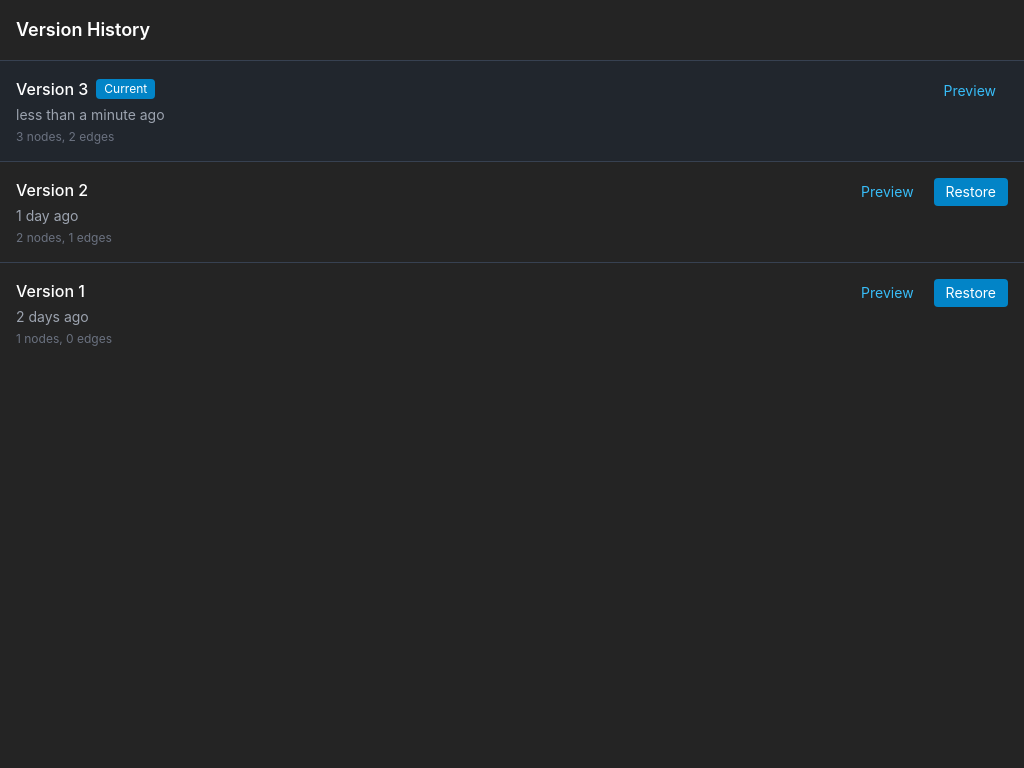
Test case: VersionHistory › preview modal › should open preview modal when Preview is clicked
Expected: the text "Version 2" is shown, x1=16 y1=178 x2=88 y2=202
Step 1. Click the 2nd button "Preview" → (887, 192), box x1=849 y1=178 x2=926 y2=206
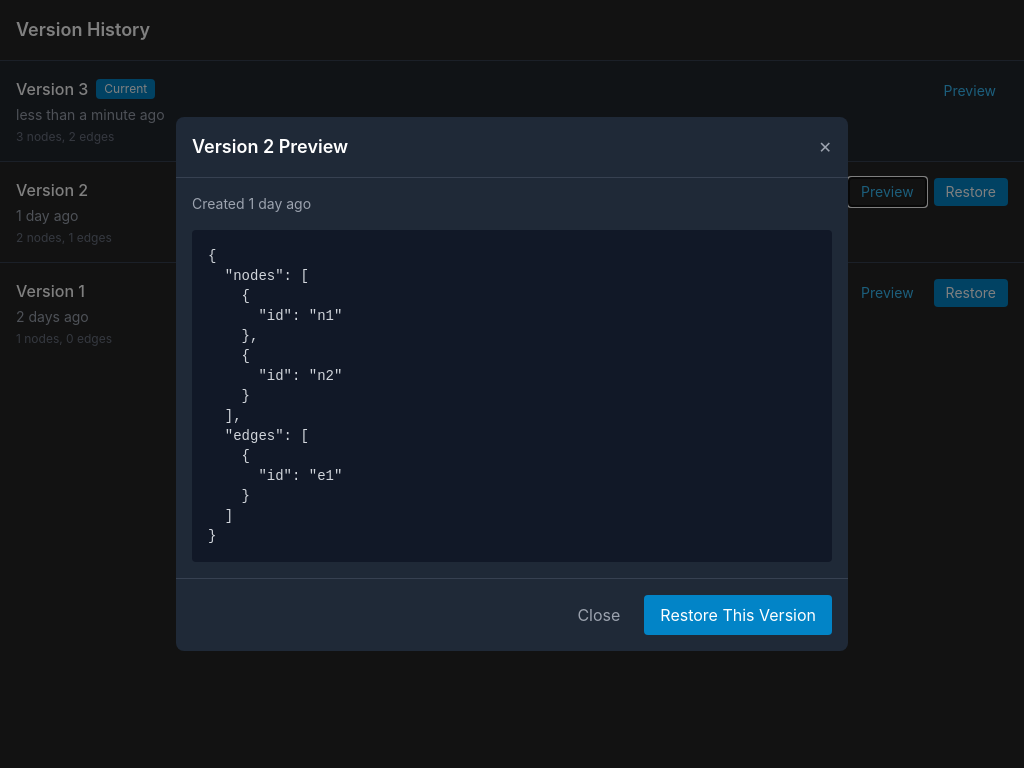
Result: the heading "Version 2 Preview" is shown at x1=192 y1=133 x2=348 y2=161
